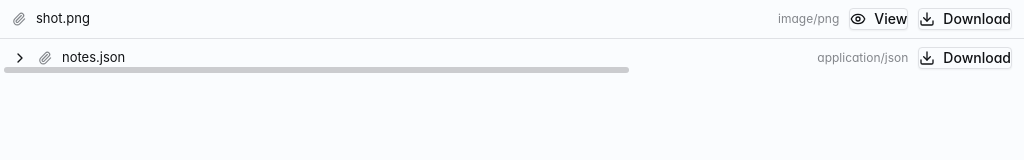
it: AttachmentsTab › expands a JSON attachment's chevron to show its pretty-printed contents
Click the button named "Preview attachment contents" at {"x": 20, "y": 58}, box [12,50,28,66]
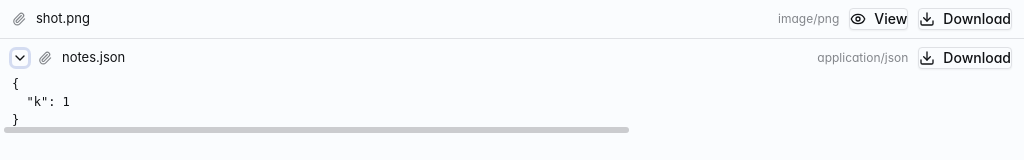
Expected: the text "{ \"k\": 1 }" is shown, [12,77,70,127]
